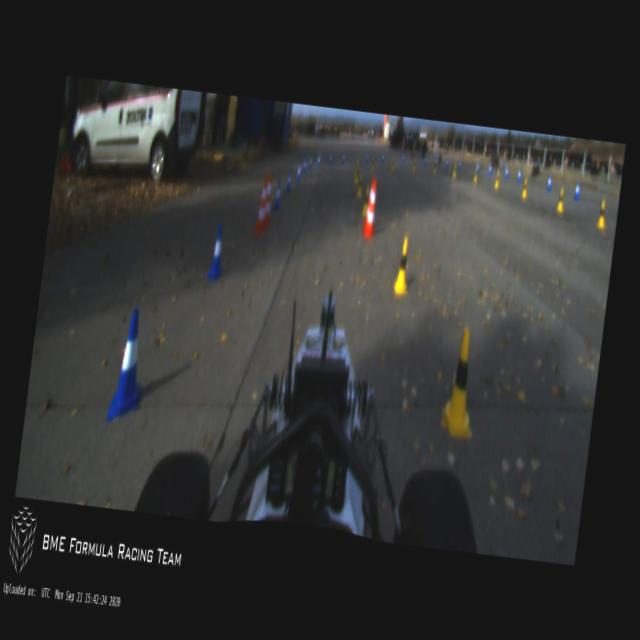blue_cone: (106, 307, 151, 427), (206, 226, 226, 278), (272, 180, 282, 212), (285, 168, 293, 194), (294, 164, 302, 183), (545, 171, 552, 191), (574, 180, 580, 200), (306, 154, 312, 170), (516, 167, 522, 183), (340, 150, 346, 165), (456, 158, 462, 172), (301, 158, 306, 174), (316, 152, 321, 168), (328, 149, 333, 165), (444, 155, 449, 170), (504, 163, 508, 179), (488, 160, 492, 176), (400, 152, 405, 164), (364, 150, 368, 164), (381, 151, 385, 164)
large_orange_cone: (253, 174, 270, 235), (260, 173, 276, 228), (364, 180, 378, 237), (363, 177, 375, 230)
yellow_cone: (438, 325, 486, 442), (392, 234, 414, 294), (596, 200, 608, 228), (555, 186, 566, 213), (361, 184, 369, 217), (520, 176, 529, 198), (355, 177, 363, 200), (492, 168, 500, 188), (472, 162, 478, 182), (432, 159, 438, 176), (354, 165, 359, 185), (370, 156, 375, 172), (411, 157, 416, 173), (452, 162, 457, 176), (390, 156, 394, 171)
